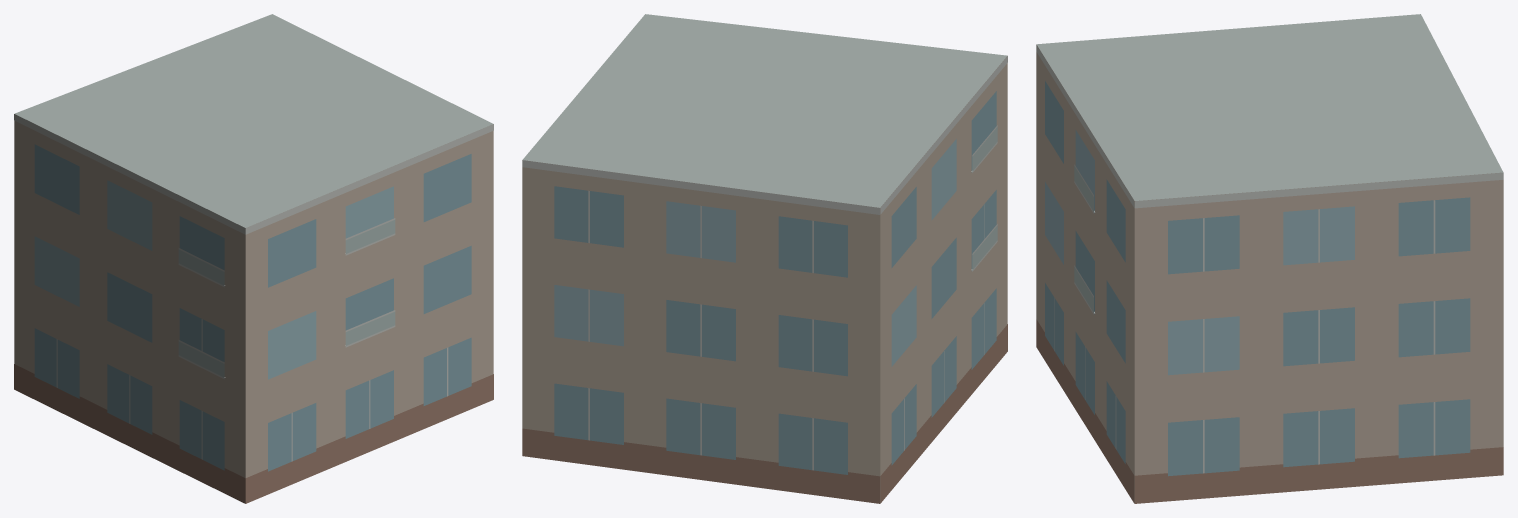
Rendered from survey-upis-32492897.glb.
3 renders of one model, left to right at view 1: azimuth 30°, elevation 25°; view 2: azimuth 150°, elevation 25°; view 3: azimuth 270°, elevation 25°, orthographic. The views are drawn at different scales.
Parts seen in each view (by area): view 1: survey-upis-32492897.tmp; view 2: survey-upis-32492897.tmp; view 3: survey-upis-32492897.tmp.
Part boxes in pixels (<box>): survey-upis-32492897.tmp: <box>14,14,493,503</box>; survey-upis-32492897.tmp: <box>522,14,1007,503</box>; survey-upis-32492897.tmp: <box>1036,14,1503,503</box>.
Size of the model in its own units: 13.4 by 10.1 by 14.13.
